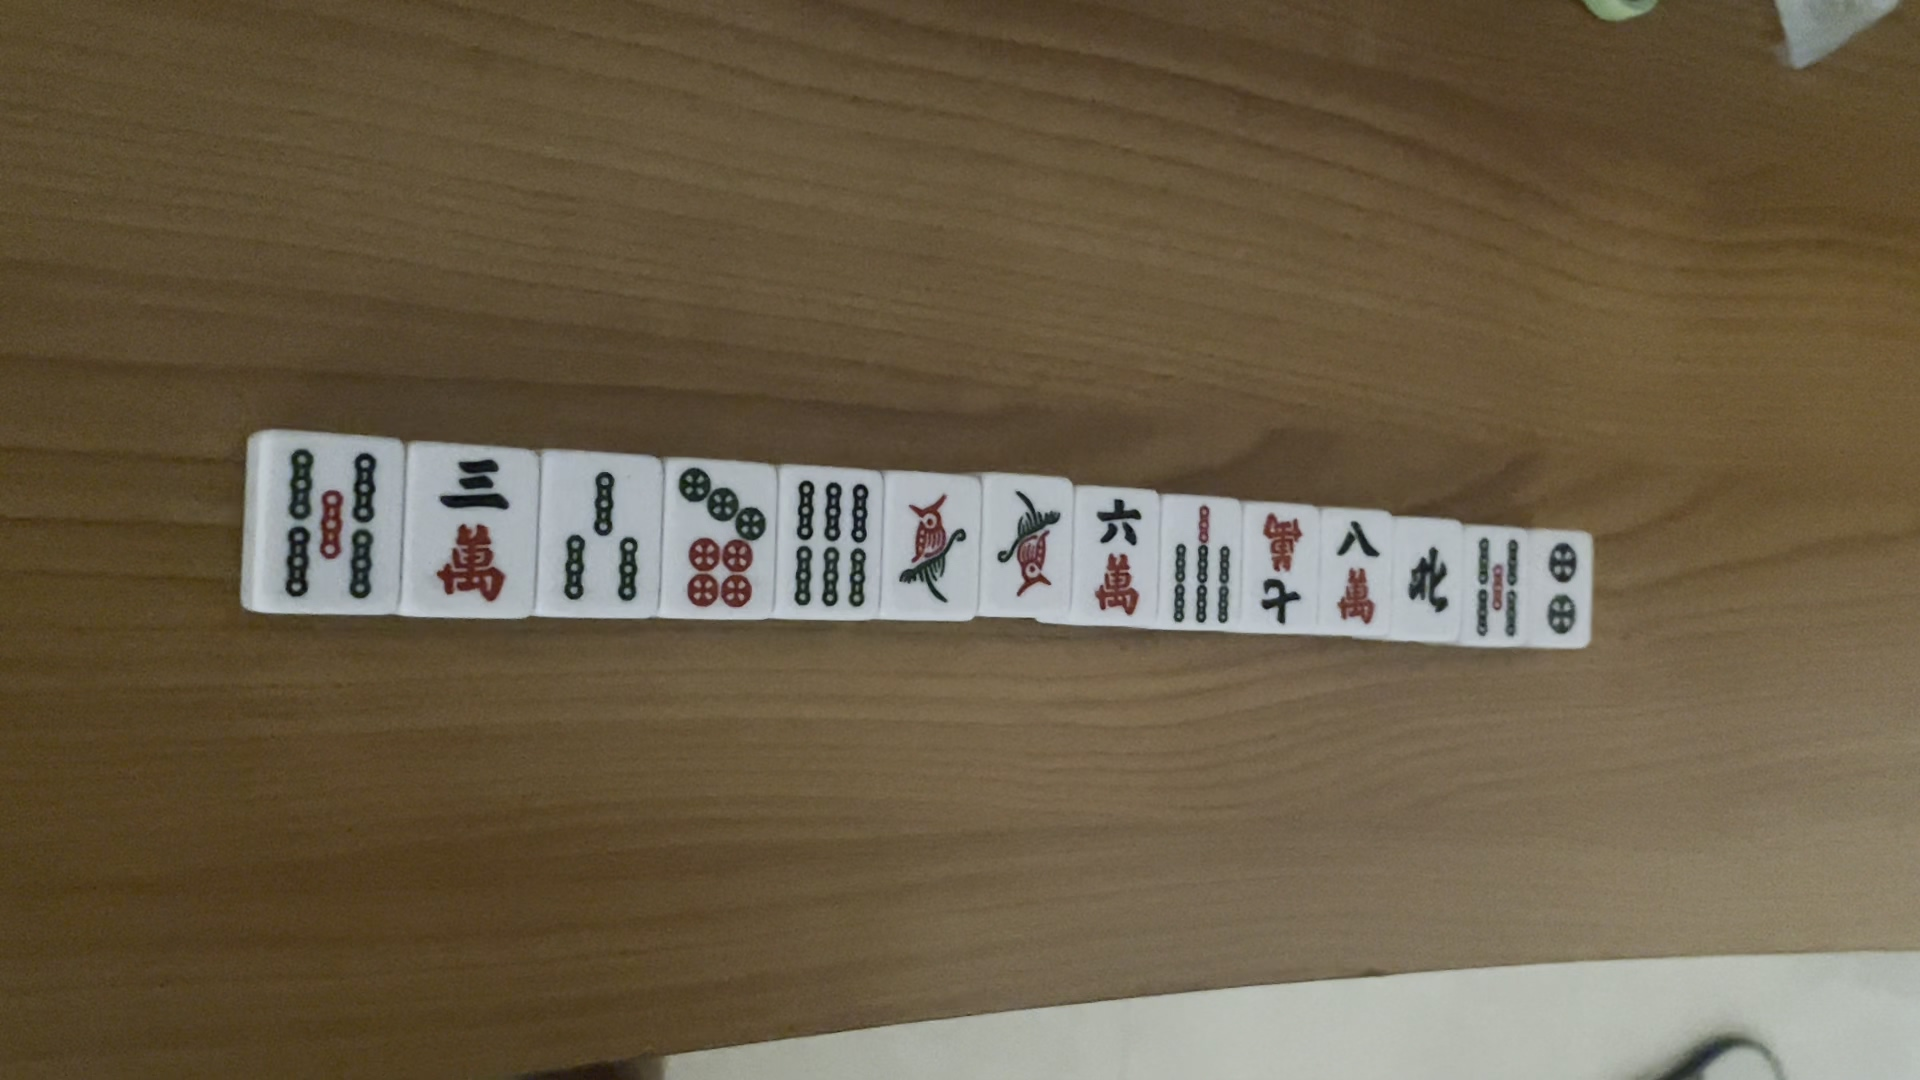b-1: (989, 485, 1069, 607), (891, 488, 971, 609)
b-3: (547, 462, 649, 618)
b-5: (273, 440, 381, 604), (1470, 535, 1528, 644)
b-6: (787, 475, 872, 618)
b-7: (1168, 496, 1233, 632)
c-3: (431, 450, 520, 609)
c-6: (1080, 496, 1153, 615)
c-7: (1247, 508, 1309, 630)
c-8: (1332, 517, 1379, 625)
d-2: (1539, 538, 1582, 646)
d-7: (674, 465, 770, 612)
honors-north: (1406, 545, 1451, 615)
